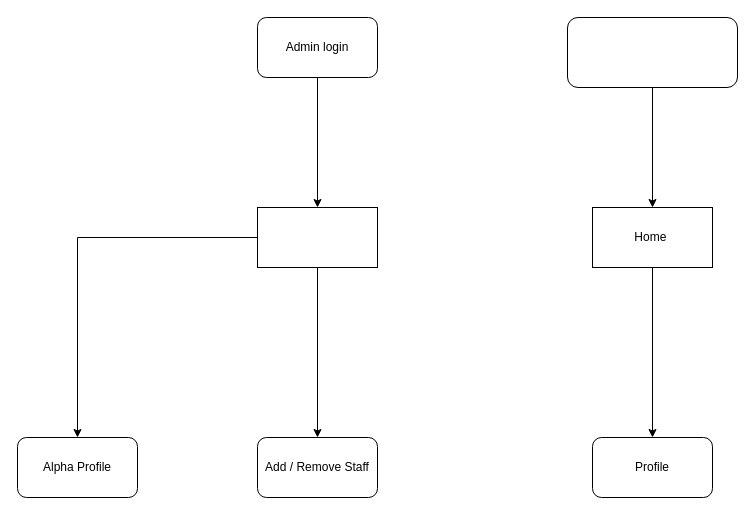
Image size: 755x515. Some labels were removed from this diagram. The shapes that lost their labels are listed below. From the top down, each one's centre as x and y in pixels, then its label:
At point (652, 52): "User login".
At point (317, 237): "Main Page".
